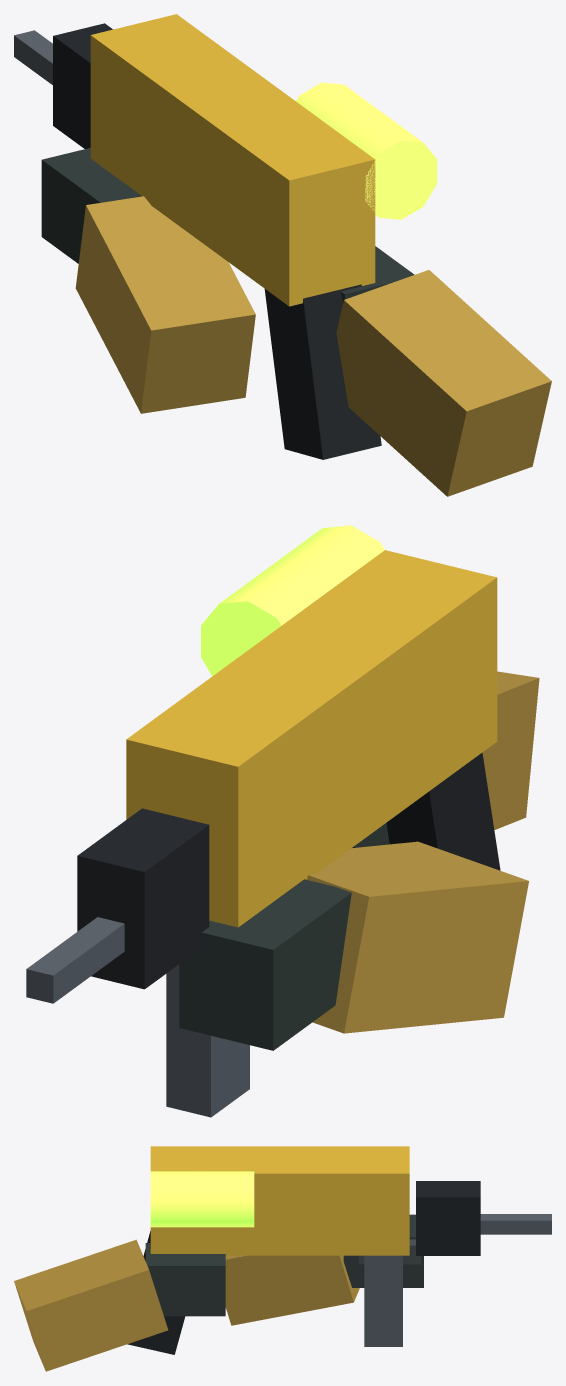
File: leaky_nailgun.glb
3 views of the same model, one above another, from view 1: azimuth 30°, elevation 25°; view 2: azimuth 150°, elevation 25°; view 3: azimuth 270°, elevation 25° (orthographic). The views are drawn at different scales.
Parts seen in each view (by area): view 1: _MeshInstance3D_3845, _MeshInstance3D_3859, _MeshInstance3D_3853, _MeshInstance3D_3848, _MeshInstance3D_3850, _MeshInstance3D_3852, _MeshInstance3D_3846, _MeshInstance3D_3847, _MeshInstance3D_3858; view 2: _MeshInstance3D_3845, _MeshInstance3D_3853, _MeshInstance3D_3852, _MeshInstance3D_3846, _MeshInstance3D_3850, _MeshInstance3D_3848, Magazine, _MeshInstance3D_3859, _MeshInstance3D_3847; view 3: _MeshInstance3D_3845, _MeshInstance3D_3859, _MeshInstance3D_3853, _MeshInstance3D_3850, _MeshInstance3D_3846, _MeshInstance3D_3858, Magazine, _MeshInstance3D_3847, _MeshInstance3D_3852, _MeshInstance3D_3848, _MeshInstance3D_3854.
Part boxes in pixels (x1,y1,x2,y2): _MeshInstance3D_3845: (90,14,375,306); _MeshInstance3D_3859: (336,270,551,496); _MeshInstance3D_3853: (75,196,255,413); _MeshInstance3D_3848: (264,284,381,459); _MeshInstance3D_3850: (296,82,437,219); _MeshInstance3D_3852: (41,148,141,263); _MeshInstance3D_3846: (53,23,112,148); _MeshInstance3D_3847: (14,30,52,84); _MeshInstance3D_3858: (341,246,414,303); _MeshInstance3D_3845: (126,550,497,927); _MeshInstance3D_3853: (307,841,528,1033); _MeshInstance3D_3852: (179,879,351,1050); _MeshInstance3D_3846: (77,808,209,989); _MeshInstance3D_3850: (201,525,384,675); _MeshInstance3D_3848: (386,752,500,870); Magazine: (166,965,249,1117); _MeshInstance3D_3859: (482,671,539,829); _MeshInstance3D_3847: (26,917,124,1003); _MeshInstance3D_3845: (150,1146,409,1255); _MeshInstance3D_3859: (14,1239,168,1371); _MeshInstance3D_3853: (225,1255,359,1325); _MeshInstance3D_3850: (150,1171,254,1227); _MeshInstance3D_3846: (416,1181,480,1255); _MeshInstance3D_3858: (145,1243,225,1316); Magazine: (364,1255,402,1346); _MeshInstance3D_3847: (480,1214,551,1234); _MeshInstance3D_3852: (343,1214,423,1287); _MeshInstance3D_3848: (127,1231,185,1354); _MeshInstance3D_3854: (403,1239,421,1264).
Size of the model in its own units: 0.1445 by 0.1655 by 0.4157.
